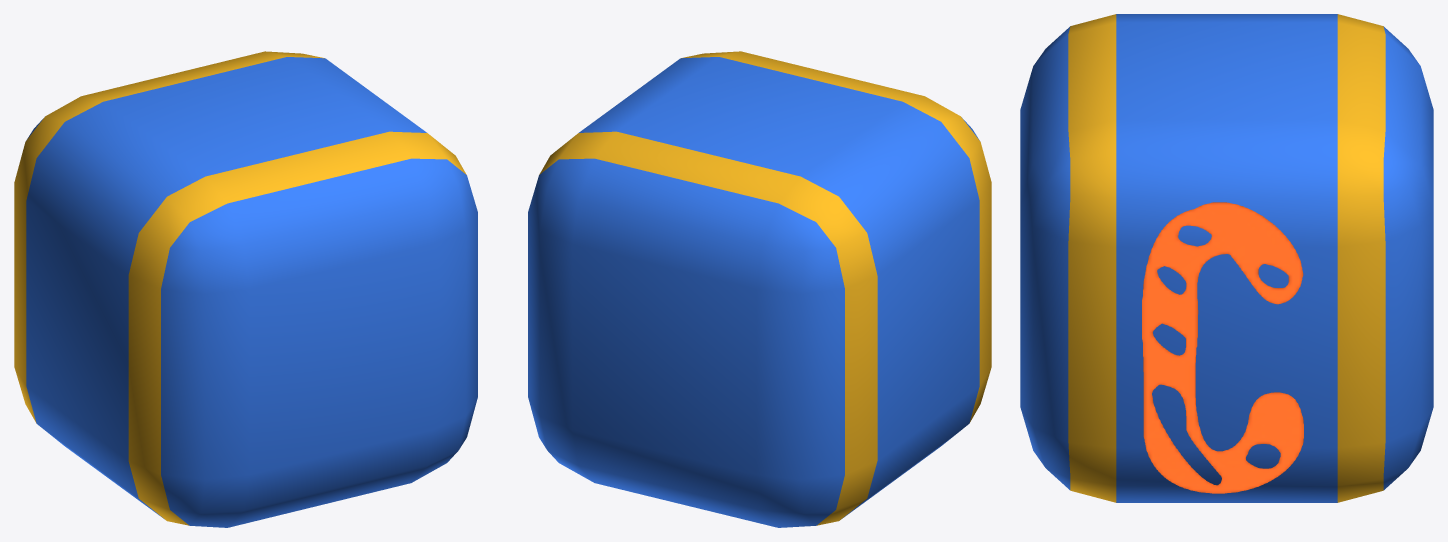
File: c_lower.glb
3 renders of one model, left to right at view 1: azimuth 30°, elevation 25°; view 2: azimuth 150°, elevation 25°; view 3: azimuth 270°, elevation 25°, orthographic. The views are drawn at different scales.
Visible parts, largest first — view 1: Cube.033; view 2: Cube.033; view 3: Cube.033, Object.003.
Part boxes in pixels (<box>): Cube.033: <box>14,51,477,527</box>; Cube.033: <box>528,51,991,527</box>; Cube.033: <box>1020,14,1433,502</box>; Object.003: <box>1142,202,1303,493</box>.
Size of what is drawn, in the model's own units: 3.35 by 3.34 by 3.26.
Materials: 2 (2 with a texture image).
